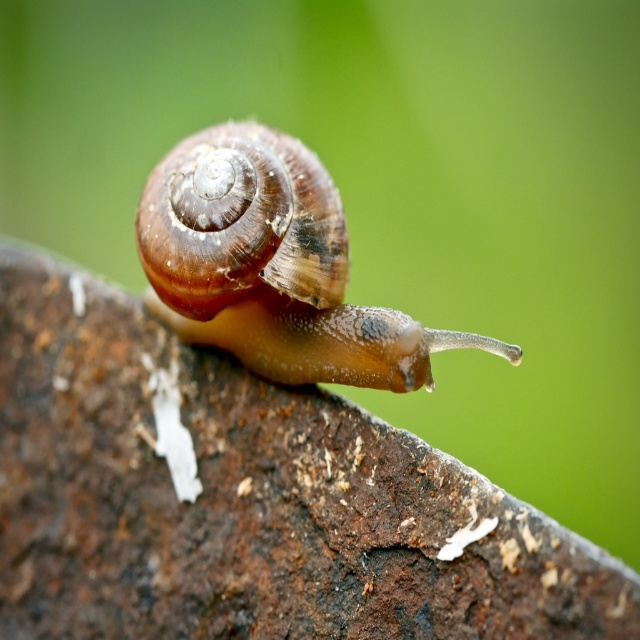Snail: (128, 111, 525, 396)
